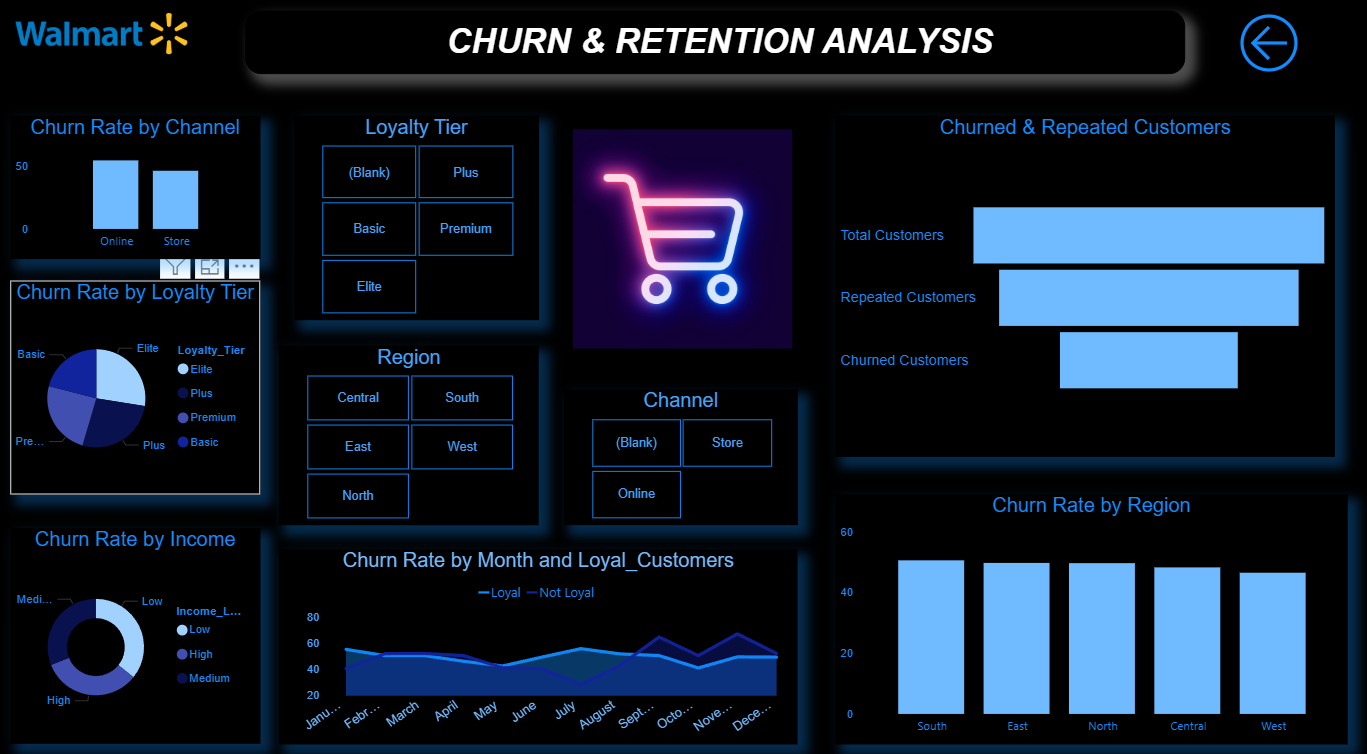

The page's visual inventory and layout, read from the dashboard file:
{"tool":"powerbi","page":{"name":"Churn and Retention Analysis","canvas":[1280,720],"ordinal":1},"visuals":[{"type":"image","box":[15.1,12.8,169.8,59.3],"z":0},{"type":"textbox","box":[233.7,20.9,874.4,59.3],"z":1000},{"type":"image","box":[533.7,118.6,214,230.2],"z":2000},{"type":"columnChart","fields":{"Category":["Customer_Transactions.Region"],"Y":["Calculation Store.Churn Rate KPI"]},"box":[782.6,470.9,476.7,232.6],"z":3000},{"type":"donutChart","title":"Churn Rate by Income","fields":{"Category":["Customer_Demographics.Income_Level"],"Y":["Calculation Store.Churn Rate"]},"box":[15.1,502.3,232.6,201.2],"z":4000},{"type":"pieChart","title":"Churn Rate by Loyalty Tier","fields":{"Category":["Loyalty_Program.Loyalty_Tier"],"Y":["Calculation Store.Churn Rate"]},"box":[15.1,272.1,232.6,198.8],"z":5000},{"type":"slicer","title":"Loyalty Tier","fields":{"Values":["Loyalty_Program.Loyalty_Tier"]},"box":[279.1,118.6,227.9,190.7],"z":6000},{"type":"slicer","title":"Region","fields":{"Values":["Store_Locations.Region"]},"box":[265.1,332.6,241.9,167.4],"z":7000},{"type":"funnel","title":"Churned & Repeated Customers","fields":{"Y":["CountNonNull(Transaction_count.Customer_ID)","Sum(Transaction_count.Repeated customers)","Sum(Churn_Labelled_Customers.Churn_Flag)"]},"box":[782.6,118.6,465.1,317.4],"z":8000},{"type":"columnChart","title":"Churn Rate by Channel","fields":{"Category":["Customer_Demographics.Preferred_Channel"],"Y":["Calculation Store.Churn Rate KPI"]},"box":[15.1,102.3,232.6,131.4],"z":9000},{"type":"slicer","title":"Channel","fields":{"Values":["Customer_Demographics.Preferred_Channel"]},"box":[530.2,373.3,217.4,126.7],"z":10000},{"type":"actionButton","box":[1152.3,17.4,75.6,67.4],"z":11000},{"type":"lineChart","fields":{"Y":["Calculation Store.Churn Rate"],"Category":["Customer_Transactions.Transaction_Date.Variation.Date Hierarchy.Month"],"Series":["Transaction_count.Loyal_Customers "]},"box":[265.1,522.1,482.6,181.4],"z":12000}]}

Visuals, with their boxes in screenshot pixels (x1, y1, x2, y2), scaled from the page's 1280x720 canvas onto the 1367x754 screenshot:
image: {"x1": 16, "y1": 13, "x2": 197, "y2": 76}
textbox: {"x1": 250, "y1": 22, "x2": 1183, "y2": 84}
image: {"x1": 570, "y1": 124, "x2": 799, "y2": 365}
columnChart - Customer_Transactions.Region x Calculation Store.Churn Rate KPI: {"x1": 836, "y1": 493, "x2": 1345, "y2": 737}
"Churn Rate by Income" donutChart: {"x1": 16, "y1": 526, "x2": 265, "y2": 737}
"Churn Rate by Loyalty Tier" pieChart: {"x1": 16, "y1": 285, "x2": 265, "y2": 493}
"Loyalty Tier" slicer: {"x1": 298, "y1": 124, "x2": 541, "y2": 324}
"Region" slicer: {"x1": 283, "y1": 348, "x2": 541, "y2": 524}
"Churned & Repeated Customers" funnel: {"x1": 836, "y1": 124, "x2": 1333, "y2": 457}
"Churn Rate by Channel" columnChart: {"x1": 16, "y1": 107, "x2": 265, "y2": 245}
"Channel" slicer: {"x1": 566, "y1": 391, "x2": 798, "y2": 524}
actionButton: {"x1": 1231, "y1": 18, "x2": 1311, "y2": 89}
lineChart - Calculation Store.Churn Rate x Customer_Transactions.Transaction_Date.Variation.Date Hierarchy.Month: {"x1": 283, "y1": 547, "x2": 799, "y2": 737}
